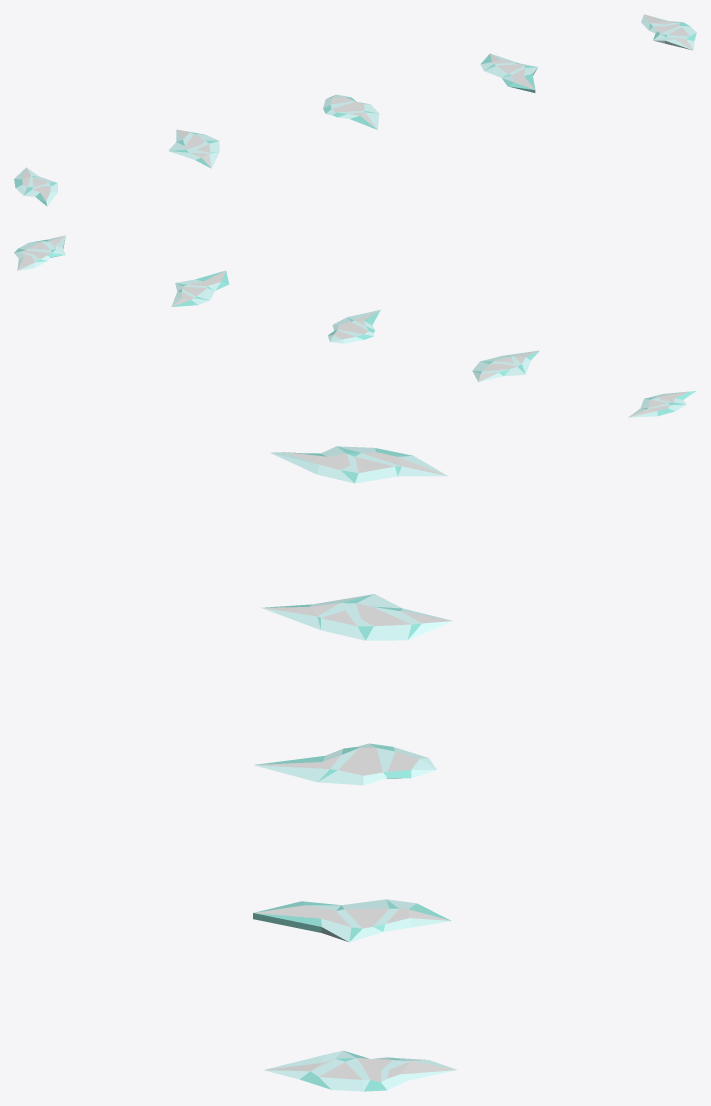
Rendered from GlassShards.fbx.
The picture shows the model from 3 angles, top to bottom: view 1: azimuth 30°, elevation 25°; view 2: azimuth 150°, elevation 25°; view 3: azimuth 270°, elevation 25°; orthographic projection. The views are drawn at different scales.
Parts seen in each view (by area): view 1: GlassShard4, GlassShard2, GlassShard5, GlassShard3, GlassShard1; view 2: GlassShard4, GlassShard2, GlassShard3, GlassShard5, GlassShard1; view 3: GlassShard4, GlassShard2, GlassShard5, GlassShard3, GlassShard1.
Part boxes in pixels (left/top/right/bottom): GlassShard4: left=480, top=53, right=537, bottom=92; GlassShard2: left=168, top=129, right=219, bottom=168; GlassShard5: left=641, top=14, right=696, bottom=50; GlassShard3: left=323, top=94, right=379, bottom=129; GlassShard1: left=14, top=167, right=58, bottom=206; GlassShard4: left=171, top=270, right=229, bottom=306; GlassShard2: left=472, top=350, right=539, bottom=382; GlassShard3: left=328, top=309, right=380, bottom=343; GlassShard5: left=14, top=235, right=65, bottom=270; GlassShard1: left=628, top=391, right=696, bottom=417; GlassShard4: left=253, top=899, right=451, bottom=942; GlassShard2: left=261, top=594, right=452, bottom=640; GlassShard5: left=263, top=1050, right=456, bottom=1091; GlassShard3: left=253, top=743, right=436, bottom=785; GlassShard1: left=270, top=446, right=447, bottom=483.
Bounding box in the file's own units: 2.14 × 0.00948 × 0.2869.
